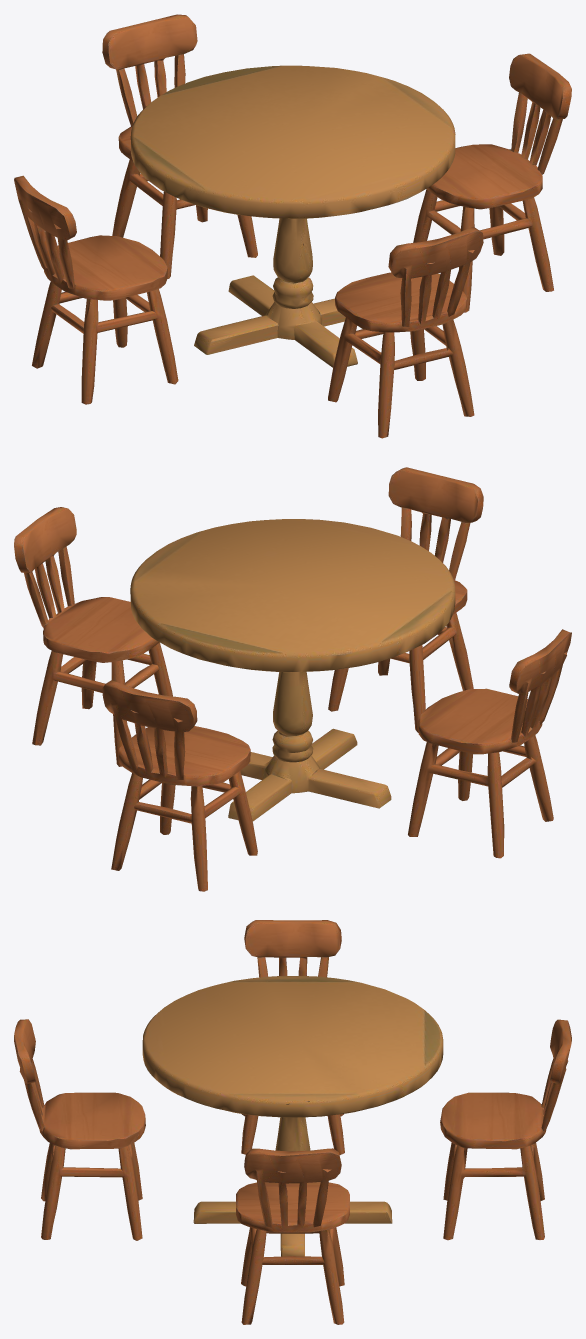
The model's file is table.glb.
3 views of the same model, one above another, from view 1: azimuth 30°, elevation 25°; view 2: azimuth 150°, elevation 25°; view 3: azimuth 270°, elevation 25° (orthographic). The views are drawn at different scales.
Visible parts, largest first — view 1: table, chair_3, chair_0, chair_1, chair_2; view 2: table, chair_2, chair_0, chair_1, chair_3; view 3: table, chair_1, chair_3, chair_2, chair_0.
Boxes of the visible parts, box(x1,y1,x2,y2) form: table: box(130, 65, 455, 367); chair_3: box(328, 226, 483, 438); chair_0: box(14, 175, 178, 404); chair_1: box(413, 53, 571, 312); chair_2: box(102, 14, 257, 278); table: box(130, 519, 455, 821); chair_2: box(102, 680, 257, 891); chair_0: box(408, 629, 571, 858); chair_1: box(14, 507, 172, 766); chair_3: box(328, 467, 483, 732); table: box(142, 976, 443, 1256); chair_1: box(236, 1148, 349, 1324); chair_3: box(14, 1019, 145, 1240); chair_2: box(440, 1019, 571, 1240); chair_0: box(241, 920, 344, 1154).
Size of the model in its own units: 2.23 by 0.8119 by 2.23.
1 material, 1 textured.
